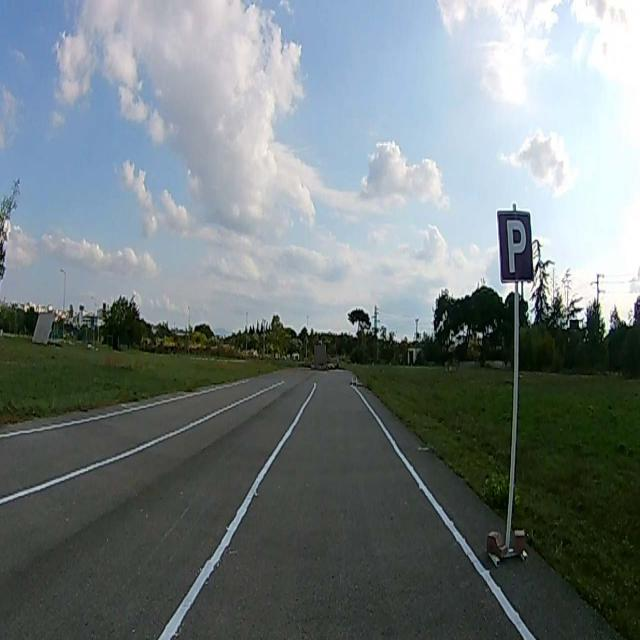park: (495, 211, 533, 281)
